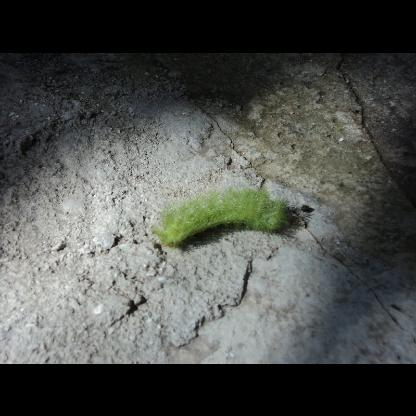oruga: (152, 182, 301, 254)
